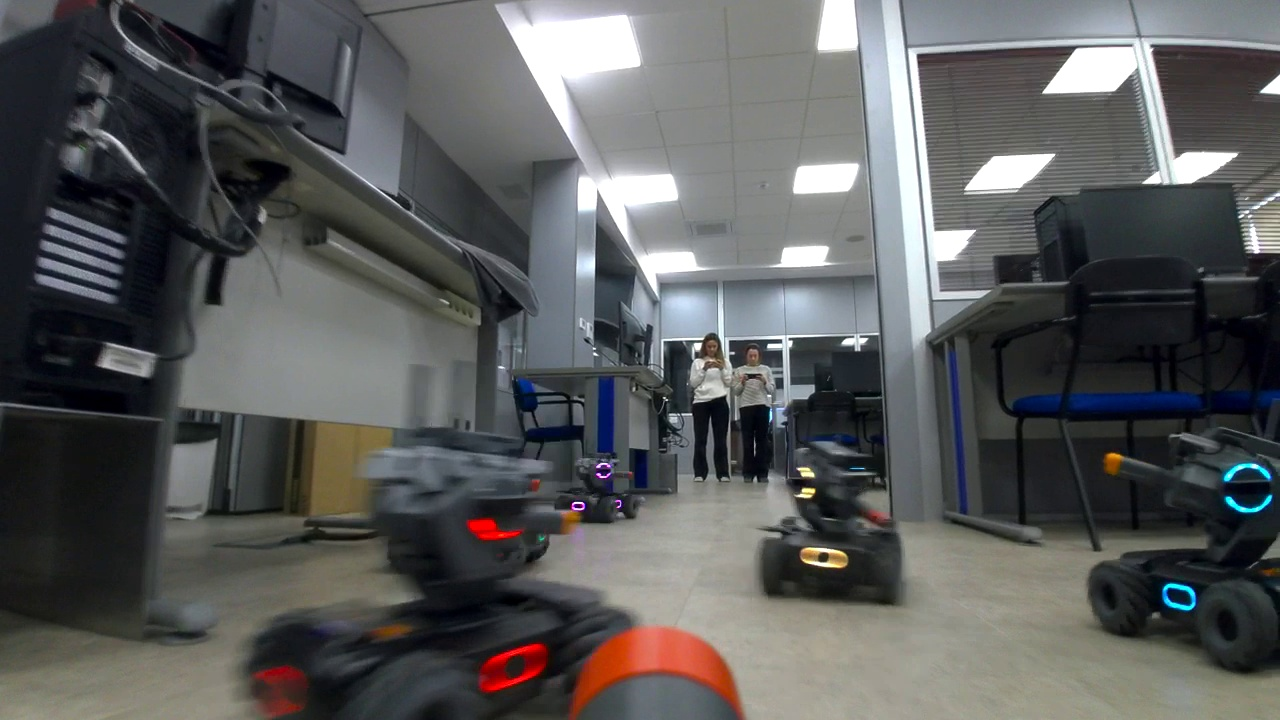robot: (239, 456, 588, 712), (1089, 428, 1277, 683), (757, 440, 903, 603), (556, 454, 642, 523)
